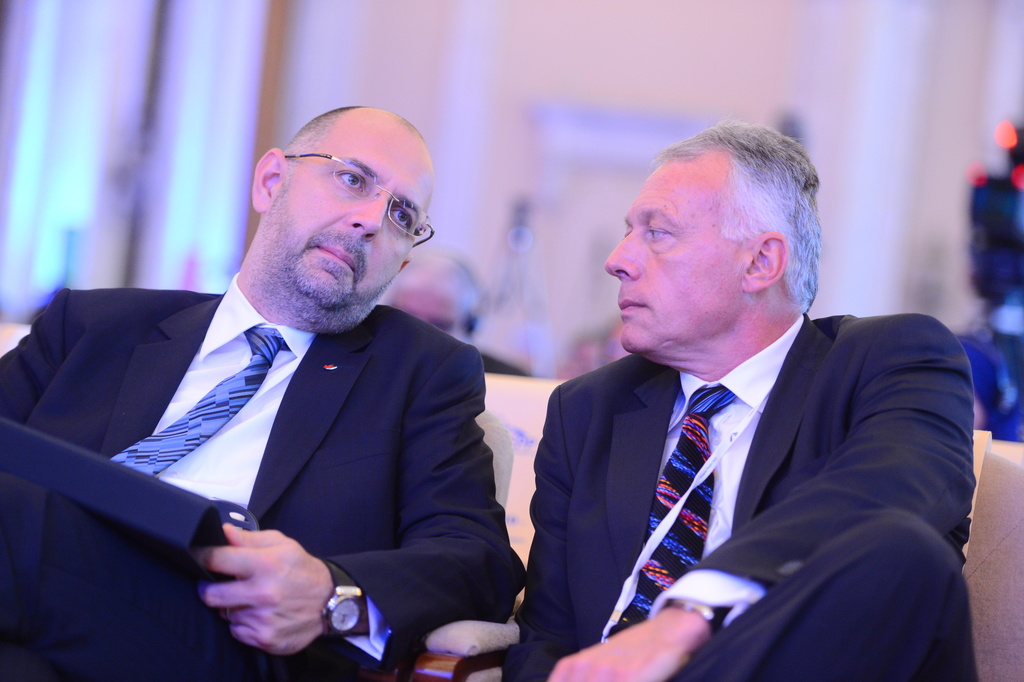Human_hand: (180, 534, 349, 638), (545, 619, 697, 681)
